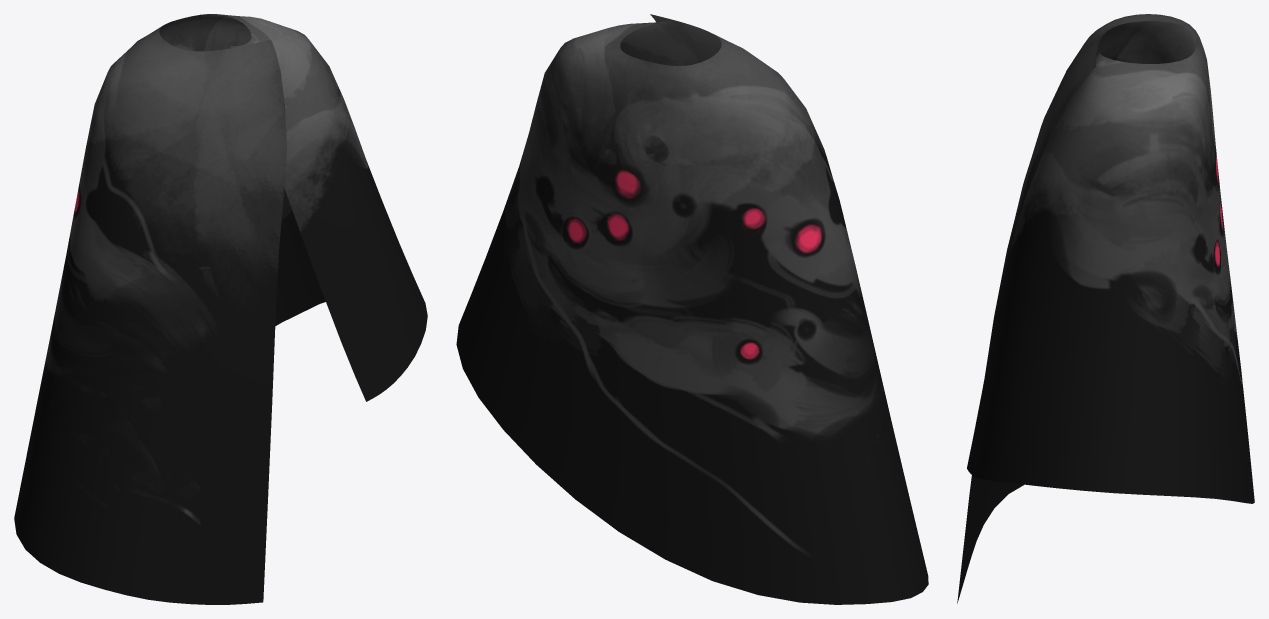
File: AM_CharacterAnim02_CapeTest_Bas.FBX
3 views of the same model, side by side, from view 1: azimuth 30°, elevation 25°; view 2: azimuth 150°, elevation 25°; view 3: azimuth 270°, elevation 25° (orthographic). The views are drawn at different scales.
Visible parts, largest first — view 1: Object001; view 2: Object001; view 3: Object001.
Part boxes in pixels (box(x1,y1,x2,y2)): Object001: box(14, 14, 427, 604); Object001: box(456, 14, 928, 604); Object001: box(957, 14, 1254, 603).
Size of the model in its own units: 67.45 by 82.45 by 38.59.
